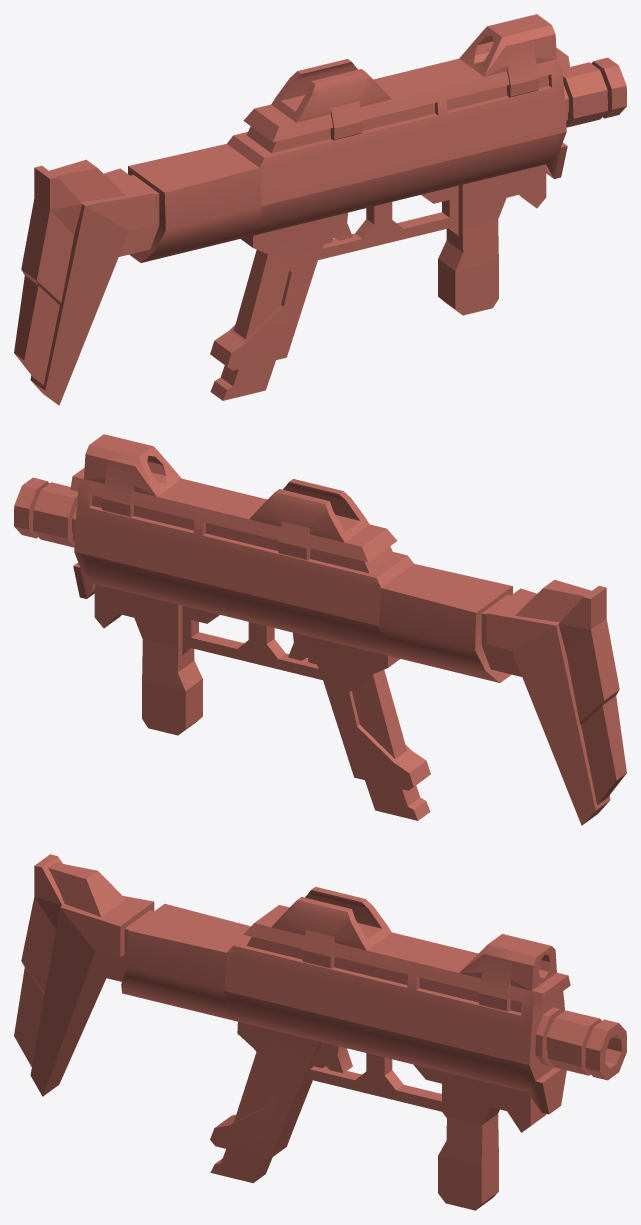
Rendered from Hellfire.fbx.
3 renders of one model, top to bottom at view 1: azimuth 30°, elevation 25°; view 2: azimuth 150°, elevation 25°; view 3: azimuth 330°, elevation 25°, orthographic.
Visible parts, largest first — view 1: Hellfire; view 2: Hellfire; view 3: Hellfire.
Part boxes in pixels (bbox=[...]): Hellfire: bbox=[14, 14, 626, 405]; Hellfire: bbox=[14, 434, 626, 825]; Hellfire: bbox=[14, 854, 626, 1210].
Bounding box in the file's own units: 75.2 × 35.89 × 8.52.
